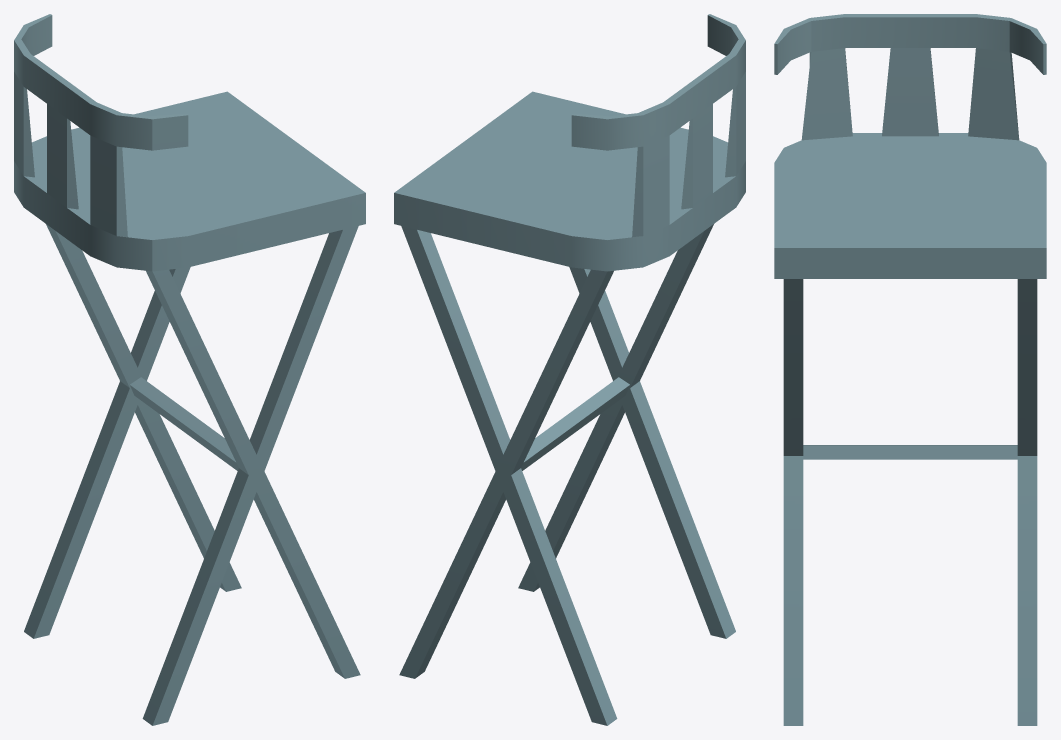
Rendered from cafe_high_chair.glb.
3 views of the same model, side by side, from view 1: azimuth 30°, elevation 25°; view 2: azimuth 150°, elevation 25°; view 3: azimuth 270°, elevation 25° (orthographic).
Visible parts, largest first — view 1: ChairTall.019_Material_0; view 2: ChairTall.019_Material_0; view 3: ChairTall.019_Material_0.
Part boxes in pixels (x1,y1,x2,y2): ChairTall.019_Material_0: [14, 14, 365, 725]; ChairTall.019_Material_0: [394, 14, 745, 725]; ChairTall.019_Material_0: [774, 14, 1046, 725].
Size of the model in its own units: 40 by 96.78 by 40.
1 material, 1 textured.
